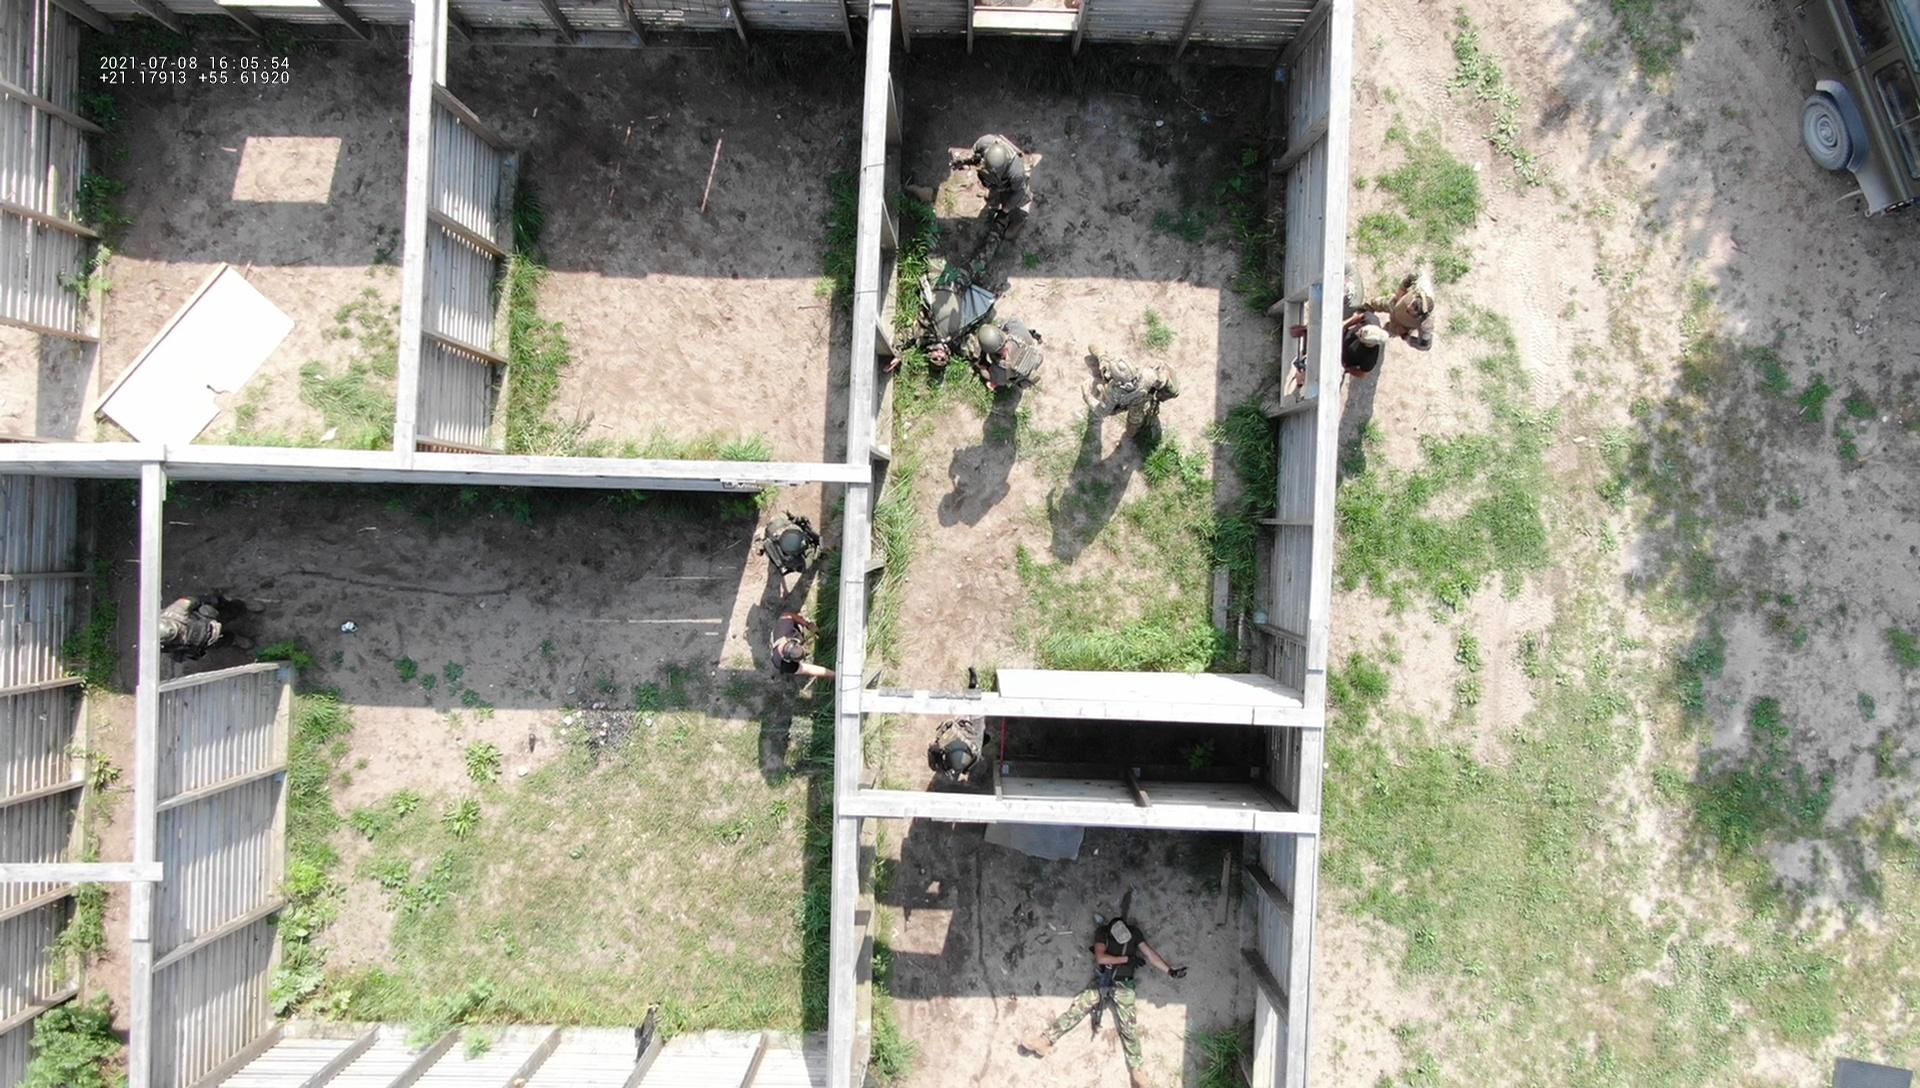Soldier: (1034, 909, 1197, 1084), (876, 193, 980, 381), (1065, 339, 1178, 421), (963, 314, 1054, 411), (165, 591, 265, 677), (968, 127, 1051, 226), (752, 495, 836, 587), (1379, 272, 1440, 356), (924, 713, 996, 781)
